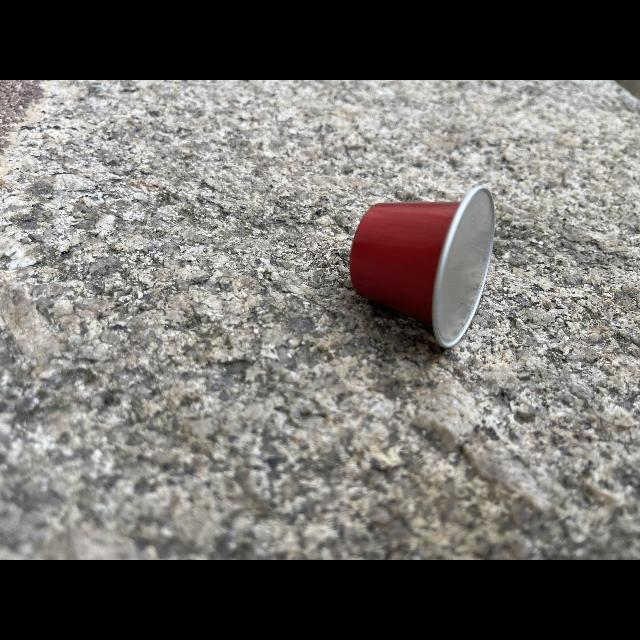intact_capsule: (340, 179, 506, 365)
